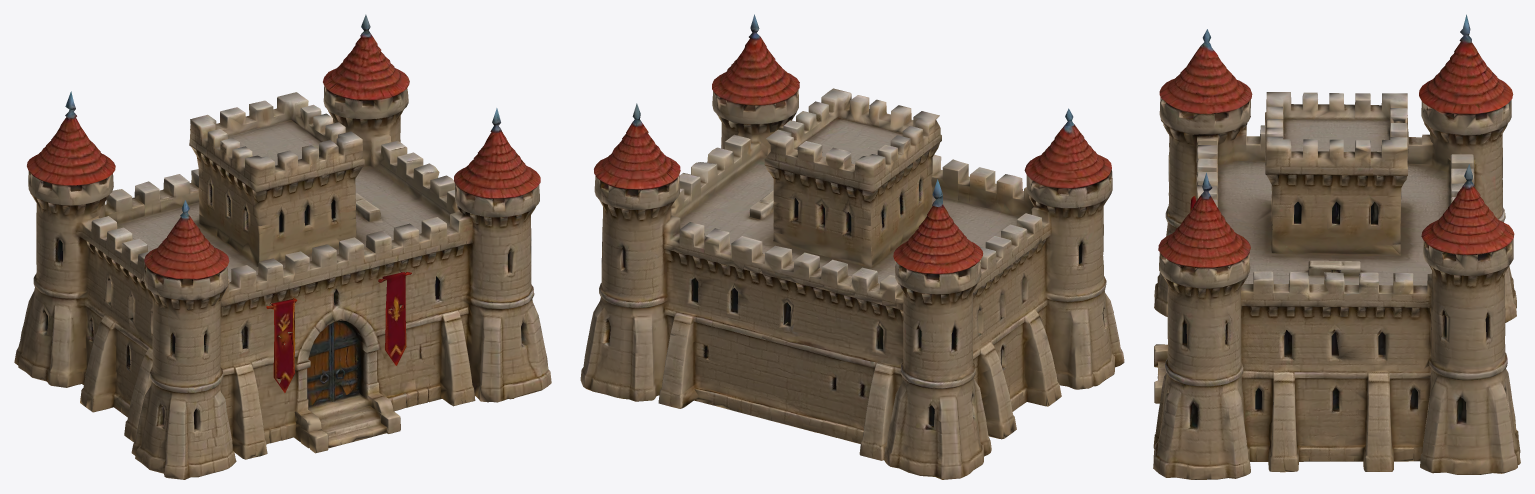
The model's file is fortress-keep.glb.
3 views of the same model, side by side, from view 1: azimuth 30°, elevation 25°; view 2: azimuth 150°, elevation 25°; view 3: azimuth 270°, elevation 25° (orthographic). The views are drawn at different scales.
Parts seen in each view (by area): view 1: fortress-keep; view 2: fortress-keep; view 3: fortress-keep.
Part boxes in pixels (left/top/right/bottom): fortress-keep: left=14, top=14, right=551, bottom=479; fortress-keep: left=580, top=14, right=1124, bottom=479; fortress-keep: left=1153, top=14, right=1520, bottom=479.
Size of the model in its own units: 31.94 by 22 by 24.38.
Materials: 1 (1 with a texture image).
